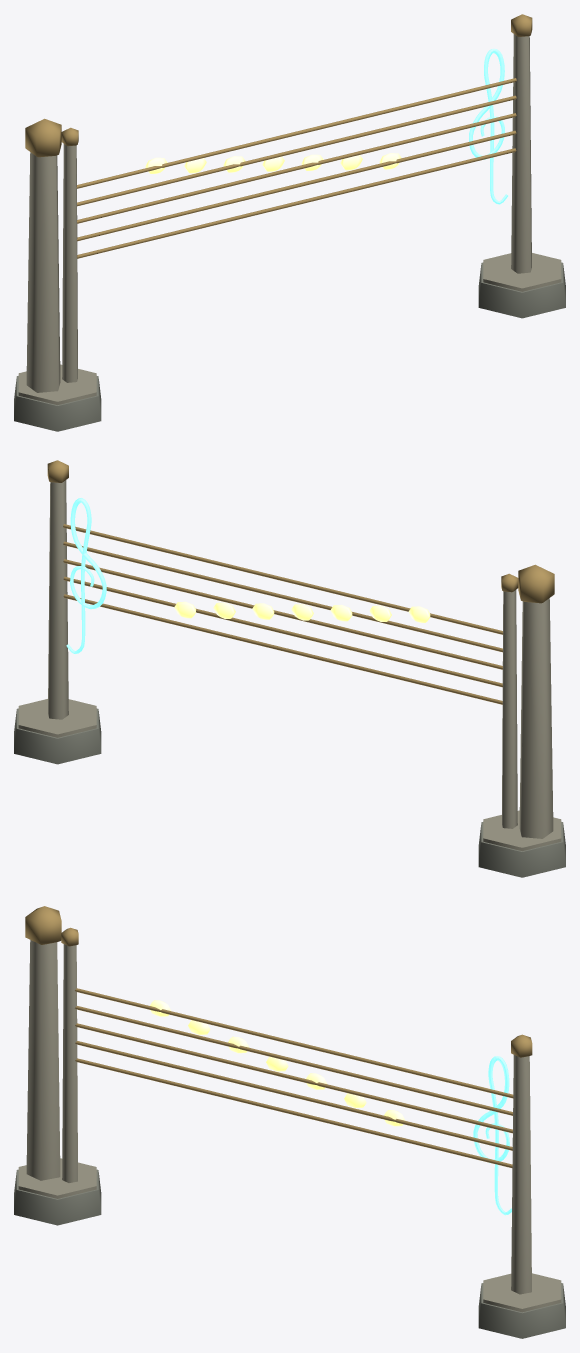
Rendered from landmark-r0-staff-gate-far.glb.
The picture shows the model from 3 angles, top to bottom: view 1: azimuth 30°, elevation 25°; view 2: azimuth 150°, elevation 25°; view 3: azimuth 330°, elevation 25°; orthographic projection.
Parts seen in each view (by area): view 1: Static_far, Lantern_notes, Glow_clef; view 2: Static_far, Lantern_notes, Glow_clef; view 3: Static_far, Lantern_notes, Glow_clef.
Part boxes in pixels (<box>): Static_far: <box>14,14,565,431</box>; Lantern_notes: <box>145,153,401,173</box>; Glow_clef: <box>469,48,507,204</box>; Static_far: <box>14,460,565,877</box>; Lantern_notes: <box>174,601,430,622</box>; Glow_clef: <box>66,498,106,653</box>; Static_far: <box>14,906,565,1338</box>; Lantern_notes: <box>150,1000,405,1126</box>; Glow_clef: <box>473,1056,511,1215</box>.
Bounding box in the file's own units: 59.4 × 30.34 × 8.14.
